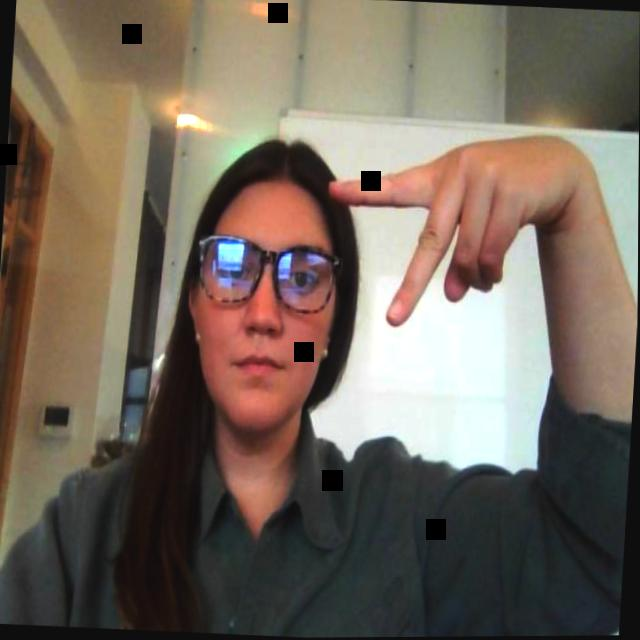Scissors: (327, 102, 585, 362)
